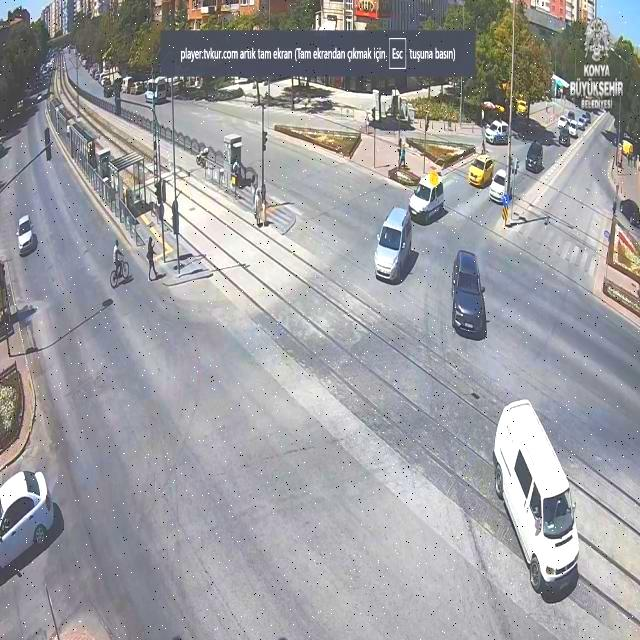Car: (0, 472, 57, 573), (453, 250, 489, 337), (373, 208, 412, 284), (406, 174, 444, 220), (12, 206, 40, 260), (486, 170, 511, 204), (466, 155, 494, 185), (485, 118, 510, 146), (525, 141, 546, 173), (620, 197, 640, 225), (558, 128, 570, 146), (568, 121, 578, 138), (557, 115, 567, 128), (577, 118, 586, 131), (582, 112, 591, 124)
Cycle: (109, 234, 134, 288)
Van: (495, 390, 583, 597)
